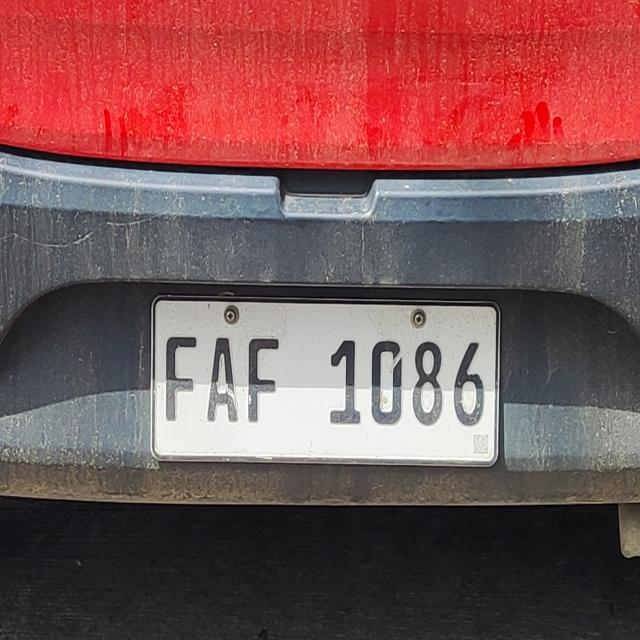plate: (148, 293, 503, 468)
